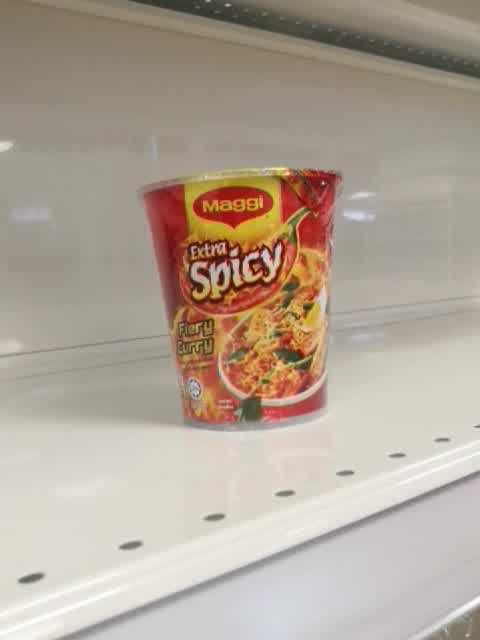maggi: (136, 165, 342, 434)
